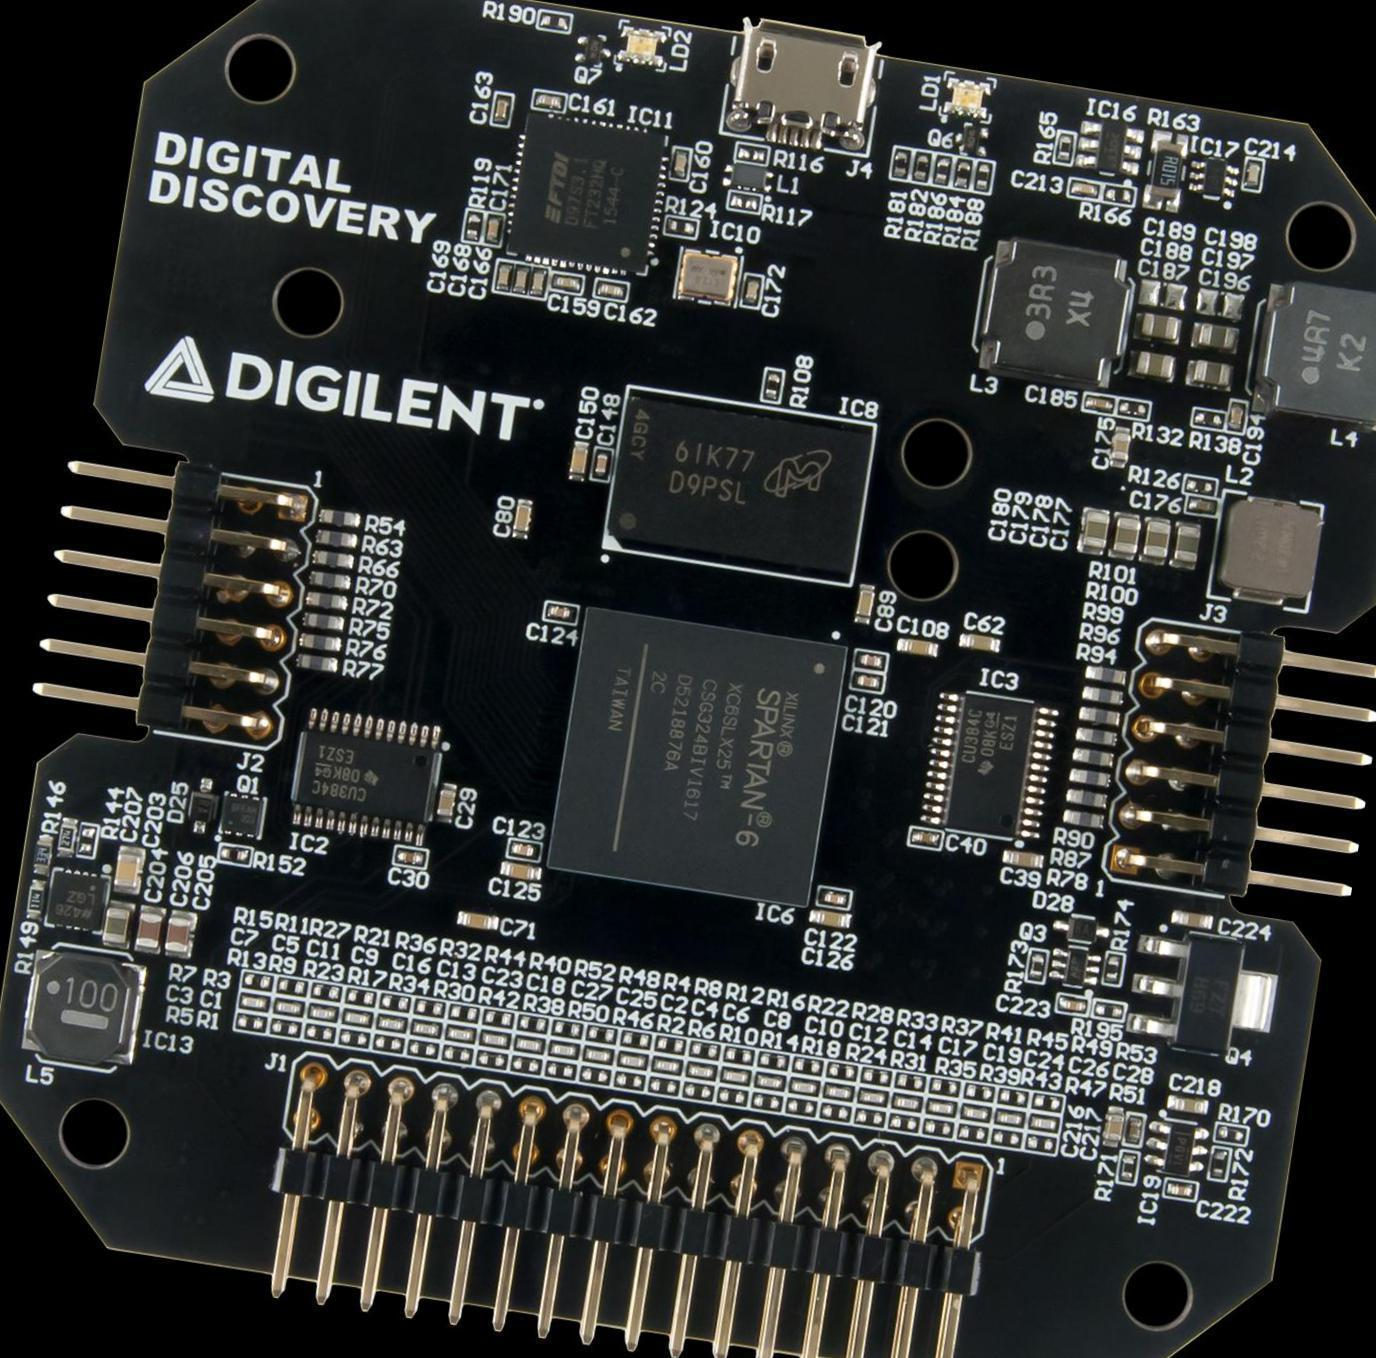Capacitor: (1135, 514, 1171, 565), (1183, 356, 1233, 391), (1168, 519, 1202, 570), (1107, 511, 1142, 560), (112, 845, 145, 894), (1132, 311, 1182, 345), (1189, 321, 1239, 354), (1076, 506, 1110, 556), (1127, 348, 1177, 381), (163, 910, 196, 958), (99, 901, 133, 949), (133, 904, 163, 951), (647, 1052, 685, 1078), (682, 1058, 720, 1084), (1169, 907, 1214, 929), (543, 1037, 582, 1062), (1101, 1105, 1125, 1146), (784, 1074, 822, 1099), (269, 994, 307, 1019), (1182, 493, 1220, 517), (455, 909, 498, 931), (510, 497, 532, 540), (614, 1047, 651, 1073), (907, 825, 943, 850), (922, 1094, 959, 1119), (887, 1090, 925, 1114), (750, 1068, 788, 1093), (819, 1079, 856, 1104), (853, 1086, 891, 1110), (510, 1031, 548, 1056), (579, 1042, 616, 1067), (303, 1000, 341, 1025), (407, 1016, 444, 1041), (235, 990, 272, 1015), (372, 1011, 410, 1035), (441, 1021, 479, 1045), (716, 1063, 753, 1088), (589, 446, 613, 482), (541, 601, 577, 626), (392, 844, 428, 869), (1054, 993, 1090, 1017), (1108, 425, 1130, 468), (957, 1100, 994, 1124), (990, 1105, 1028, 1129), (1024, 1112, 1061, 1135), (475, 1027, 513, 1051), (546, 271, 584, 295), (895, 637, 938, 656), (852, 648, 887, 673), (807, 907, 851, 927), (497, 860, 540, 880), (1066, 178, 1102, 201), (592, 278, 628, 302), (849, 669, 885, 693), (815, 885, 851, 909), (505, 837, 541, 860), (1082, 392, 1117, 415), (567, 439, 587, 480), (1165, 1094, 1208, 1113), (957, 632, 1000, 651), (1122, 1111, 1144, 1146), (338, 1006, 374, 1029), (509, 261, 531, 297), (1225, 398, 1248, 434), (1241, 157, 1264, 190), (1000, 849, 1043, 868), (436, 783, 456, 821), (490, 91, 512, 125), (668, 146, 690, 180), (854, 584, 873, 623), (1163, 1178, 1197, 1200), (531, 90, 565, 112), (739, 274, 762, 307), (526, 265, 549, 298), (493, 259, 514, 292), (483, 213, 503, 246)
Connector: (254, 1047, 996, 1357), (29, 443, 319, 750), (1099, 616, 1375, 918), (719, 16, 883, 155)
Diode: (184, 776, 221, 834), (1051, 912, 1110, 945)
IC: (545, 605, 847, 905), (602, 384, 877, 586), (498, 108, 673, 281), (283, 704, 442, 845), (919, 686, 1058, 843), (1140, 1116, 1210, 1179), (1077, 115, 1147, 178), (44, 867, 110, 932), (674, 248, 743, 306), (1188, 154, 1240, 199)
Inductor: (967, 232, 1138, 392), (1241, 275, 1375, 436), (18, 941, 148, 1076), (1207, 489, 1326, 612), (728, 163, 768, 192)
Led: (613, 19, 669, 69), (940, 72, 994, 121)
Pads: (1193, 286, 1243, 319), (1137, 278, 1186, 311), (732, 141, 770, 166), (74, 822, 98, 859), (726, 190, 761, 213)
Resistor: (1142, 128, 1190, 212), (534, 8, 573, 34), (928, 151, 955, 188), (513, 1011, 551, 1037), (987, 1126, 1025, 1151), (993, 1085, 1030, 1110), (1027, 1090, 1064, 1115), (479, 1005, 516, 1031), (884, 1109, 922, 1135), (890, 1069, 928, 1094), (753, 1048, 791, 1073), (788, 1053, 826, 1078), (650, 1032, 688, 1057), (952, 1120, 990, 1145), (747, 1088, 785, 1113), (850, 1104, 888, 1129), (540, 1056, 579, 1081), (712, 1084, 750, 1109), (300, 1020, 339, 1045), (1099, 182, 1137, 207), (1022, 1129, 1058, 1155), (888, 145, 914, 181), (949, 155, 975, 191), (334, 1026, 373, 1050), (925, 1075, 962, 1099), (857, 1064, 894, 1089), (273, 974, 310, 998), (919, 1115, 957, 1140), (576, 1062, 613, 1087), (473, 1047, 510, 1072), (266, 1015, 303, 1040), (1114, 397, 1151, 421), (1064, 787, 1107, 808), (616, 1027, 654, 1051), (581, 1022, 619, 1046), (678, 1078, 717, 1102), (232, 1011, 270, 1035), (960, 1080, 997, 1104), (823, 1059, 860, 1084), (1211, 1121, 1247, 1145), (506, 1052, 543, 1077), (369, 1031, 406, 1056), (318, 507, 361, 528), (31, 833, 53, 873), (685, 1038, 723, 1062), (719, 1043, 757, 1067), (547, 1017, 585, 1041), (306, 980, 344, 1004), (341, 985, 378, 1009), (376, 991, 413, 1015), (781, 1095, 819, 1119), (816, 1100, 853, 1124), (609, 1068, 647, 1092), (438, 1042, 475, 1066), (909, 148, 933, 185), (461, 207, 485, 244), (760, 366, 784, 403), (312, 548, 353, 569), (306, 569, 350, 590), (300, 610, 343, 631), (1070, 746, 1113, 766), (445, 1001, 482, 1025), (410, 996, 447, 1020), (404, 1037, 441, 1061), (1190, 407, 1226, 430), (1181, 474, 1217, 497), (1090, 998, 1126, 1022), (1077, 705, 1120, 725), (305, 591, 347, 611), (1061, 808, 1104, 828), (239, 970, 276, 993), (1207, 1146, 1231, 1181), (1116, 1149, 1139, 1184), (1052, 130, 1076, 165), (970, 159, 994, 194), (1101, 951, 1125, 986), (1024, 948, 1047, 983), (1084, 663, 1125, 683), (313, 528, 357, 547), (1073, 727, 1116, 746), (644, 1074, 680, 1097), (216, 843, 253, 866), (295, 652, 335, 672), (297, 633, 340, 652), (663, 215, 698, 238), (1081, 685, 1122, 704), (1068, 767, 1109, 786), (56, 819, 76, 856), (25, 880, 44, 918)
Transistor: (1124, 924, 1282, 1063), (1047, 943, 1101, 990), (219, 792, 266, 838), (573, 30, 613, 64), (959, 126, 979, 158)
